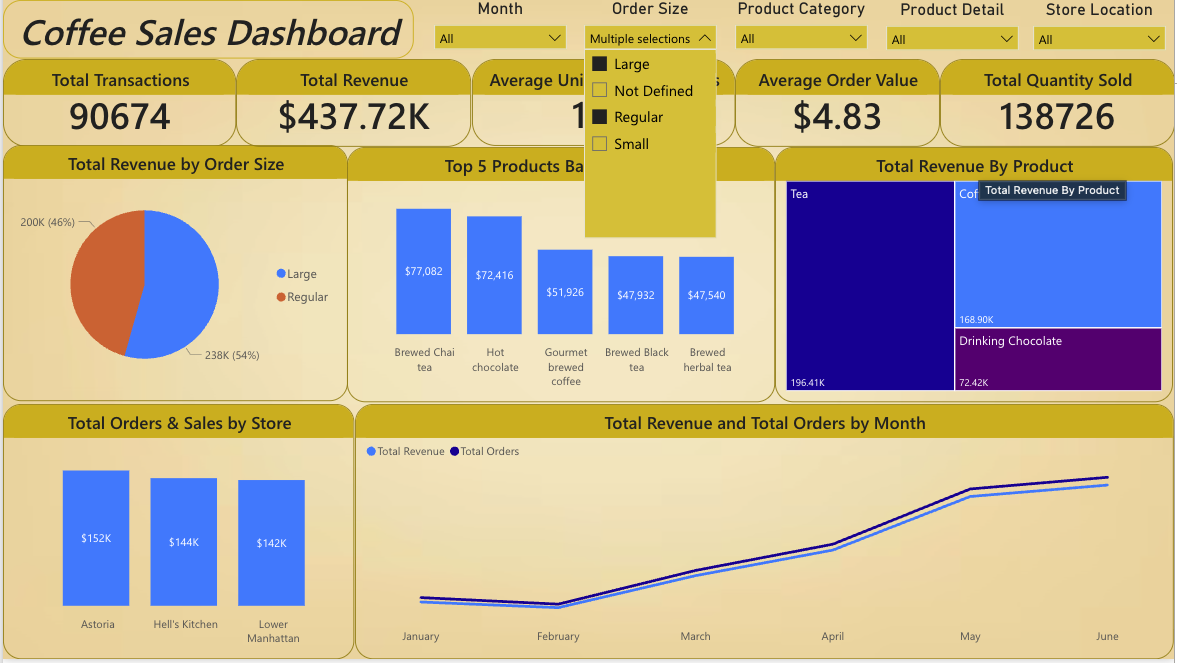

The dashboard page shown, as its layout file describes it:
{"tool":"powerbi","page":{"name":"Page 1","canvas":[1280,720],"ordinal":0},"visuals":[{"type":"card","title":"Total Transactions","fields":{"Values":["Transactions.Total Orders"]},"box":[0,64.5,255.2,96.1],"z":0},{"type":"pieChart","fields":{"Category":["Transactions.Order Size"],"Y":["Transactions.Total Revenue"]},"box":[0,160.6,376,278.6],"z":1000},{"type":"lineChart","fields":{"Y":["Transactions.Total Revenue"],"Category":["Transactions.transaction_date.Variation.Date Hierarchy.Month"],"Y2":["Transactions.Total Orders"]},"box":[384.2,441.9,894.7,278.6],"z":2000},{"type":"treemap","title":"Total Revenue By Product","fields":{"Group":["Transactions.product_category"],"Values":["Sum(Transactions.Bill Amount)"]},"box":[843.9,160.6,435,278.6],"z":3000},{"type":"clusteredColumnChart","title":"Total Orders & Sales by Store","fields":{"Category":["Transactions.store_location"],"Y":["Transactions.Total Revenue"]},"box":[0,441.9,384.2,278.6],"z":4000},{"type":"clusteredColumnChart","title":"Top 5 Products Based on Sales","fields":{"Category":["Transactions.product_type"],"Y":["Sum(Transactions.Bill Amount)"]},"box":[376,160.6,467.9,278.6],"z":5000},{"type":"card","title":"Total Revenue","fields":{"Values":["Transactions.Total Revenue"]},"box":[255.2,64.5,256.6,96.1],"z":6000},{"type":"card","title":"Average Unit Per Transactions","fields":{"Values":["Transactions.M_avg_O_P_per"]},"box":[511.8,64.5,286.8,96.1],"z":7000},{"type":"card","title":"Average Order Value","fields":{"Values":["Transactions.M_Avg_bill_per_person"]},"box":[800,64.5,223.7,96.1],"z":8000},{"type":"card","title":"Total Quantity Sold","fields":{"Values":["Transactions.Total Qty"]},"box":[1023.7,64.5,256.6,96.1],"z":9000},{"type":"textbox","title":"Coffee Sales Dashboard","box":[0,0,448.7,64.5],"z":10000},{"type":"slicer","title":"Month","fields":{"Values":["Transactions.Month Name","Transactions.Month Name"]},"box":[461.1,0,164.7,64.5],"z":11000},{"type":"slicer","title":"Order Size","fields":{"Values":["Transactions.Order Size"]},"box":[625.7,0,164.7,64.5],"z":12000},{"type":"slicer","title":"Product Category","fields":{"Values":["Transactions.product_category"]},"box":[790.4,0,164.7,64.5],"z":13000},{"type":"slicer","title":"Product Detail","fields":{"Values":["Transactions.product_type"]},"box":[955.1,1.4,164.7,64.5],"z":14000},{"type":"slicer","title":"Store Location","fields":{"Values":["Transactions.store_location"]},"box":[1115.6,1.4,164.7,64.5],"z":15000}]}

Visuals, with their boxes in screenshot pixels (x1, y1, x2, y2), scaled from the page's 1280x720 canvas onto the 1177x663 screenshot:
"Total Transactions" card: l=0, t=59, r=235, b=148
pieChart - Transactions.Order Size x Transactions.Total Revenue: l=0, t=148, r=346, b=404
lineChart - Transactions.Total Revenue x Transactions.transaction_date.Variation.Date Hierarchy.Month: l=353, t=407, r=1176, b=662
"Total Revenue By Product" treemap: l=776, t=148, r=1176, b=404
"Total Orders & Sales by Store" clusteredColumnChart: l=0, t=407, r=353, b=662
"Top 5 Products Based on Sales" clusteredColumnChart: l=346, t=148, r=776, b=404
"Total Revenue" card: l=235, t=59, r=471, b=148
"Average Unit Per Transactions" card: l=471, t=59, r=734, b=148
"Average Order Value" card: l=736, t=59, r=941, b=148
"Total Quantity Sold" card: l=941, t=59, r=1176, b=148
"Coffee Sales Dashboard" textbox: l=0, t=0, r=413, b=59
"Month" slicer: l=424, t=0, r=575, b=59
"Order Size" slicer: l=575, t=0, r=727, b=59
"Product Category" slicer: l=727, t=0, r=878, b=59
"Product Detail" slicer: l=878, t=1, r=1030, b=61
"Store Location" slicer: l=1026, t=1, r=1176, b=61
